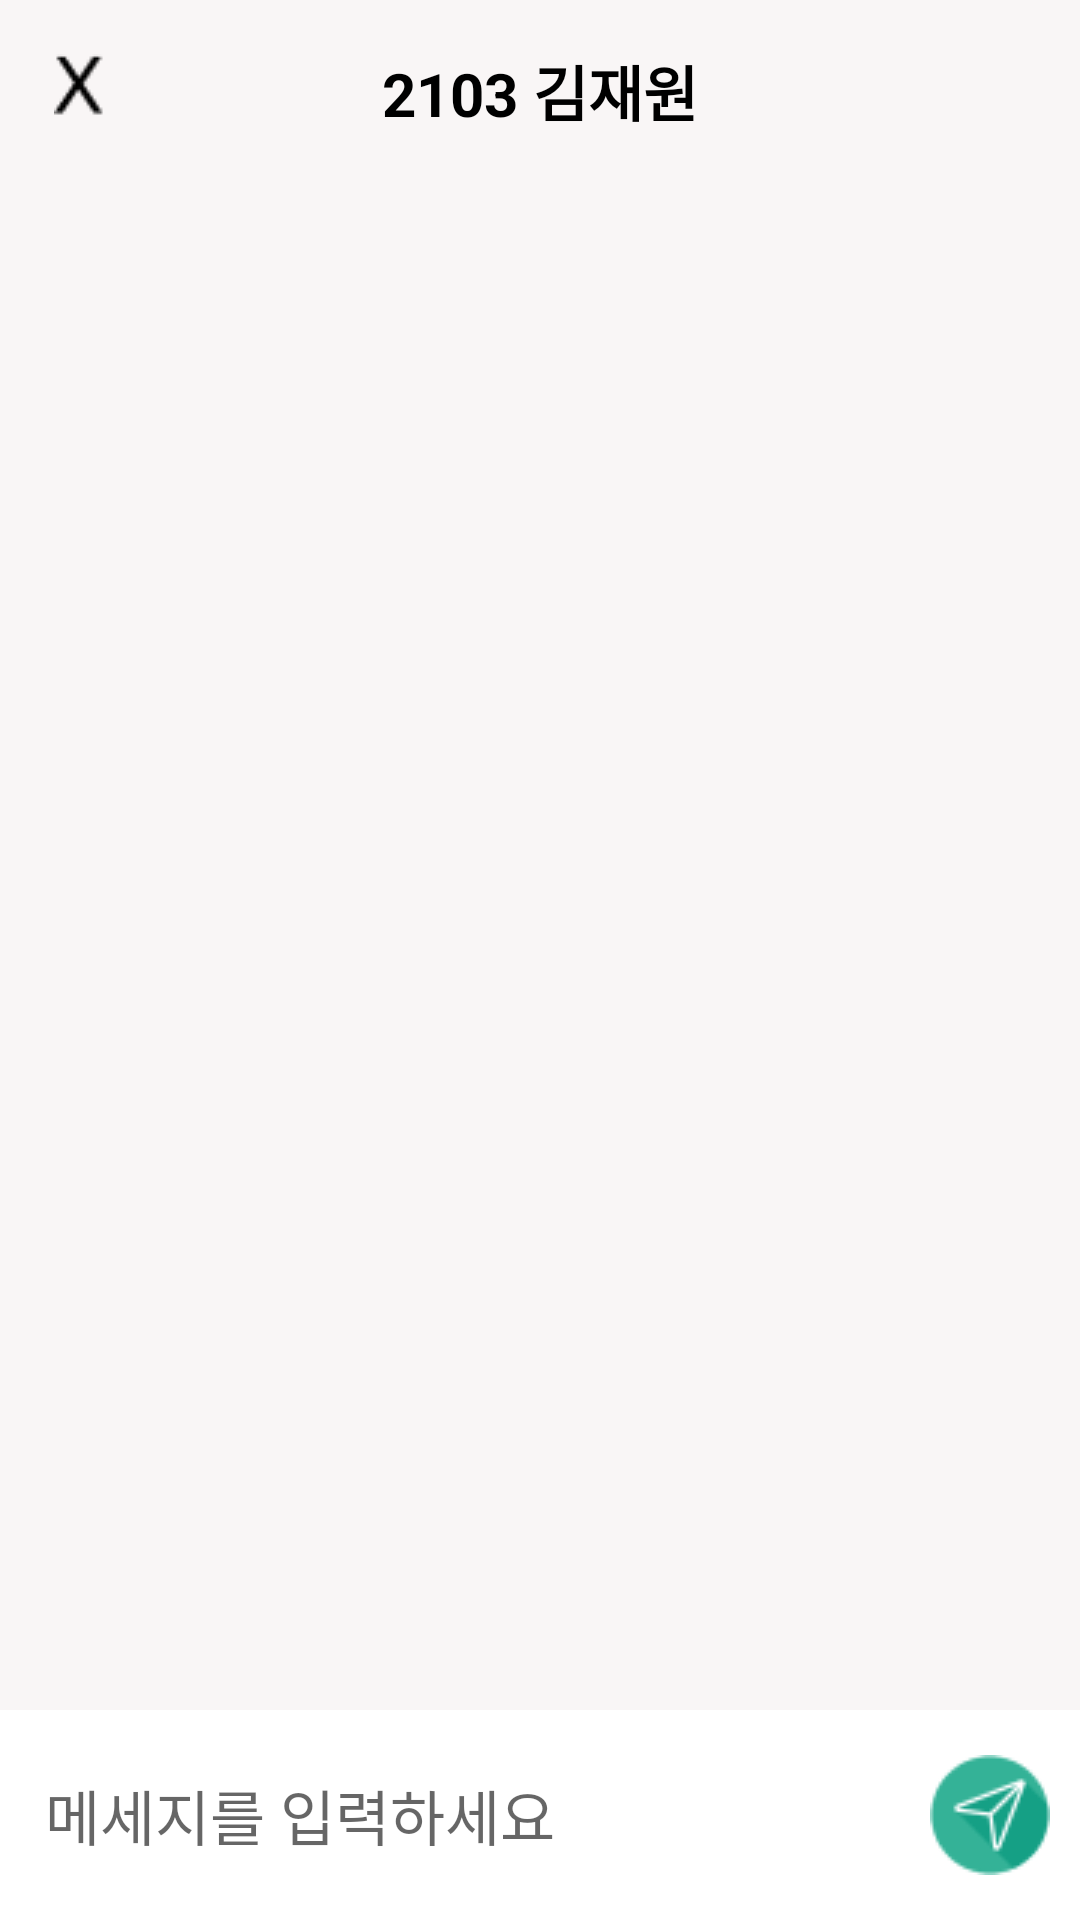

Icon click points for this 1080px×1920px phone screenshot, format [x,y]:
backx: [78,85]
chat send: [990,1815]
